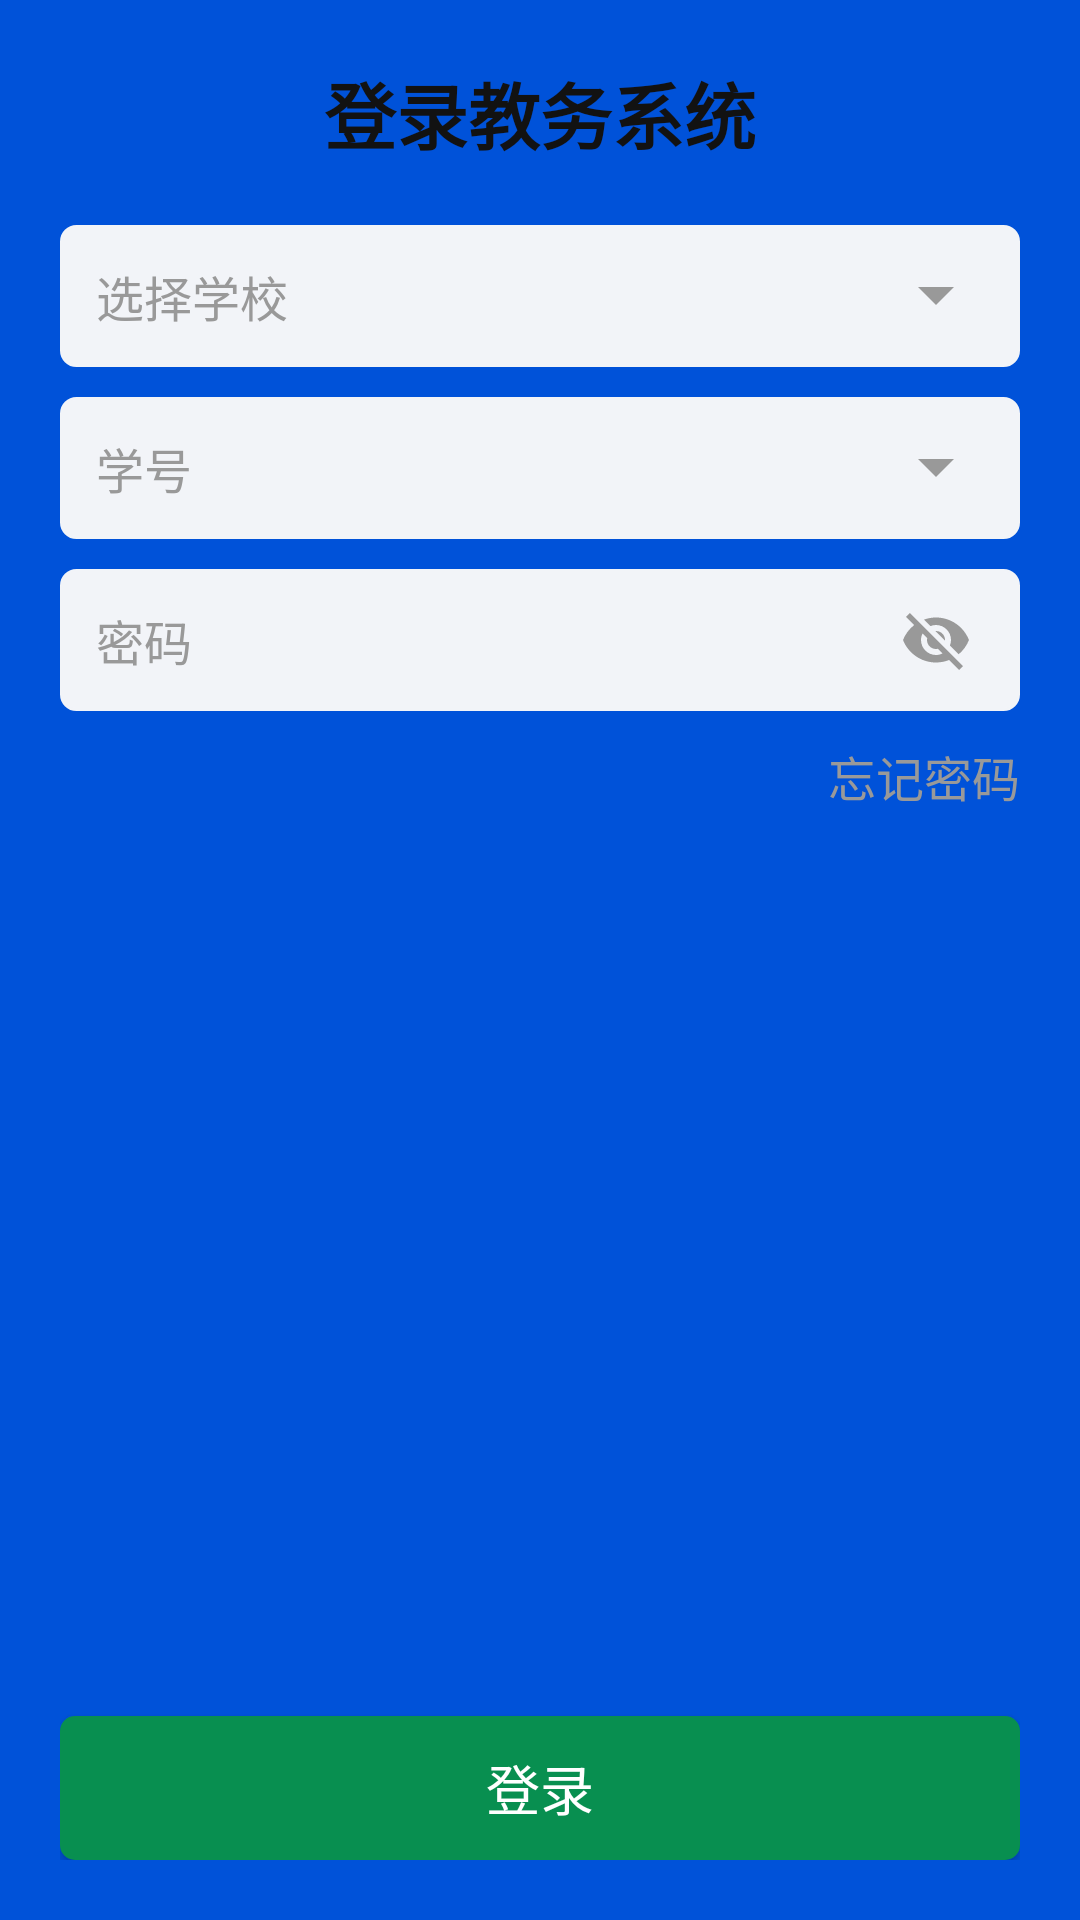

Point at icon controls on the screen. Image size 1080 × 1920, points as [x,y].
学校下拉列表: [936,296]
账号下拉列表: [936,468]
